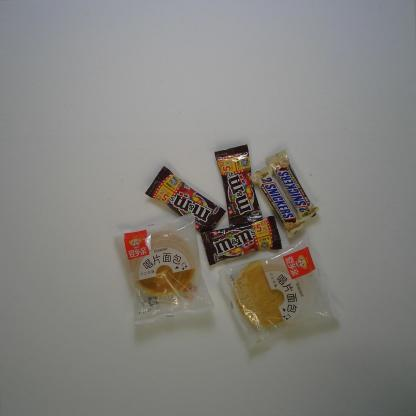Chocolate: (143, 165, 227, 234), (213, 143, 264, 229), (200, 214, 284, 266), (249, 164, 307, 239), (264, 148, 320, 223)
Dessert: (216, 237, 340, 354), (112, 212, 216, 324)
